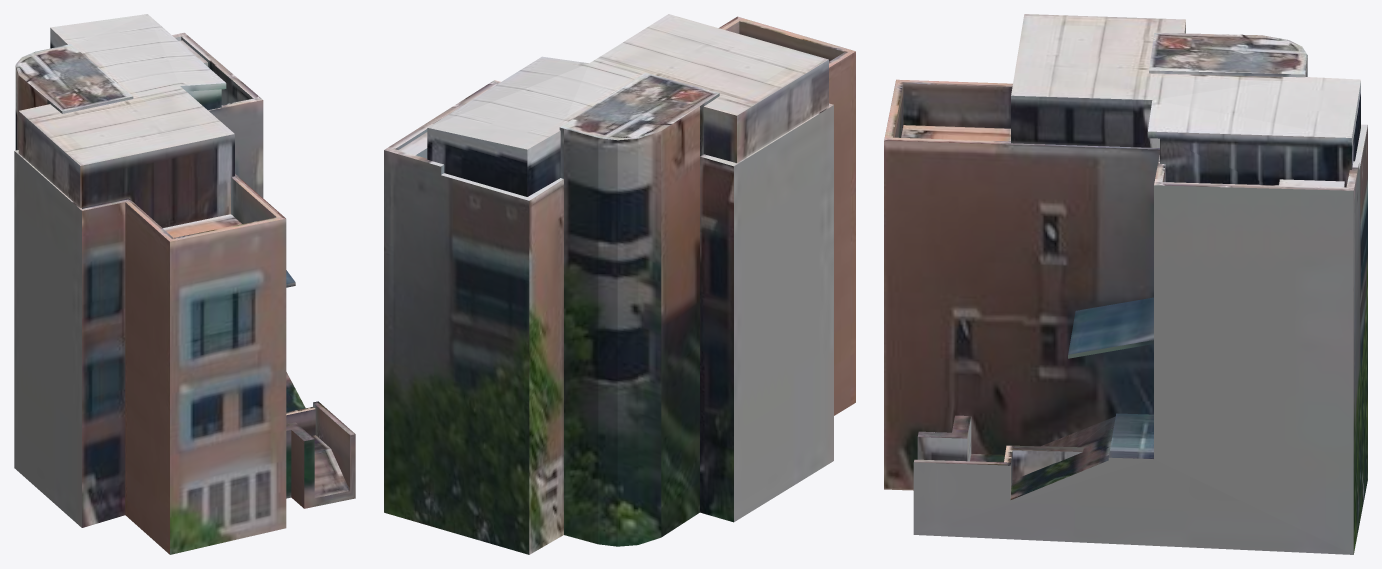
The picture shows the model from 3 angles, left to right: view 1: azimuth 30°, elevation 25°; view 2: azimuth 150°, elevation 25°; view 3: azimuth 270°, elevation 25°; orthographic projection. The views are drawn at different scales.
Parts seen in each view (by area): view 1: B280424041401063A0; view 2: B280424041401063A0; view 3: B280424041401063A0.
Part boxes in pixels (x1,y1,x2,y2): B280424041401063A0: (14, 14, 355, 554); B280424041401063A0: (384, 14, 855, 554); B280424041401063A0: (884, 14, 1367, 554).
Size of the model in its own units: 8.88 by 12.21 by 13.11.
1 material, 1 textured.
